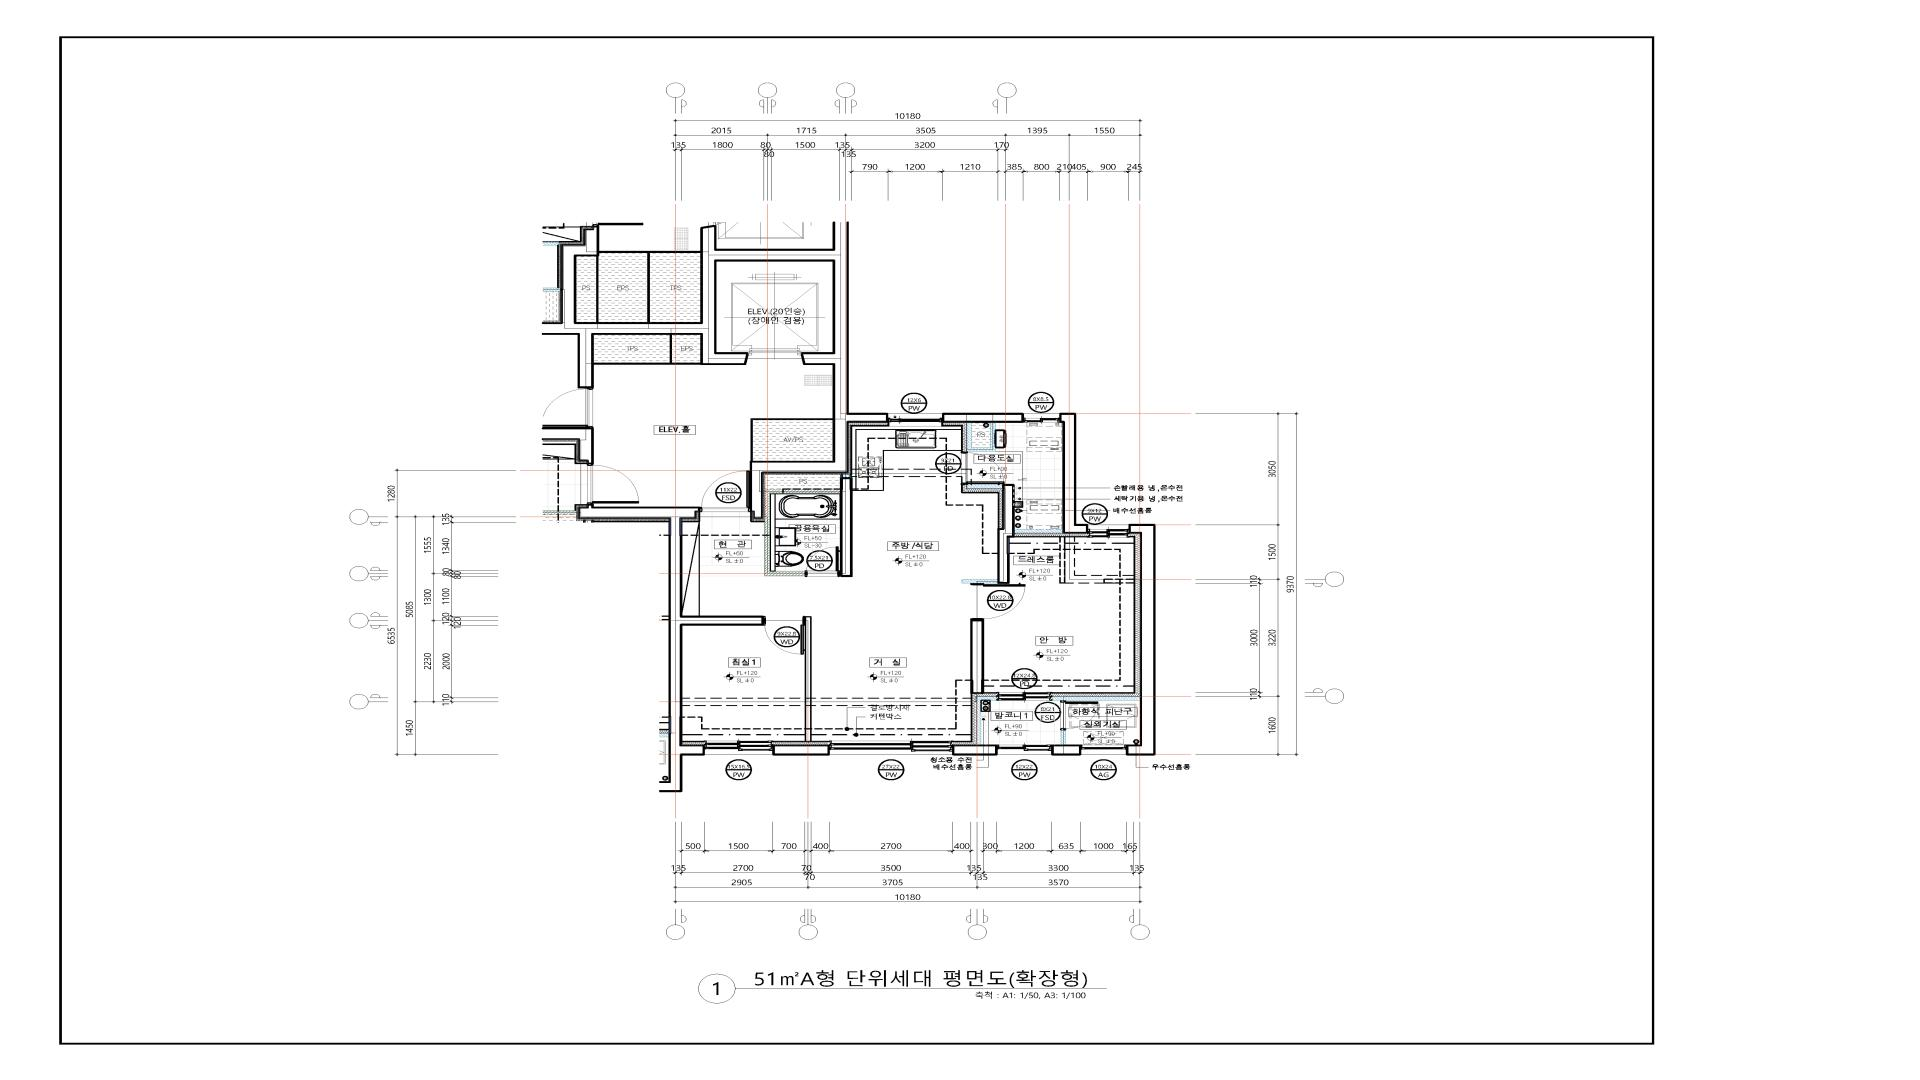door: (700, 470, 750, 512), (970, 583, 1026, 619), (763, 616, 805, 655), (961, 452, 1005, 485), (1060, 700, 1099, 731), (805, 546, 840, 577)
wall: (560, 222, 887, 519), (577, 504, 763, 756), (962, 485, 1062, 583), (764, 474, 853, 577), (1126, 524, 1156, 756), (1060, 413, 1087, 534), (970, 619, 984, 694), (804, 616, 812, 742), (976, 696, 996, 744), (942, 413, 1023, 423), (967, 423, 995, 451), (773, 744, 829, 756), (577, 428, 594, 464), (953, 744, 997, 756), (1051, 744, 1081, 756), (1052, 696, 1140, 700), (1061, 730, 1066, 744)
window: (829, 740, 953, 756), (704, 741, 773, 756), (887, 413, 942, 427), (1087, 524, 1130, 538), (997, 745, 1051, 756), (1081, 744, 1126, 756), (996, 692, 1052, 701), (1023, 413, 1060, 423)
